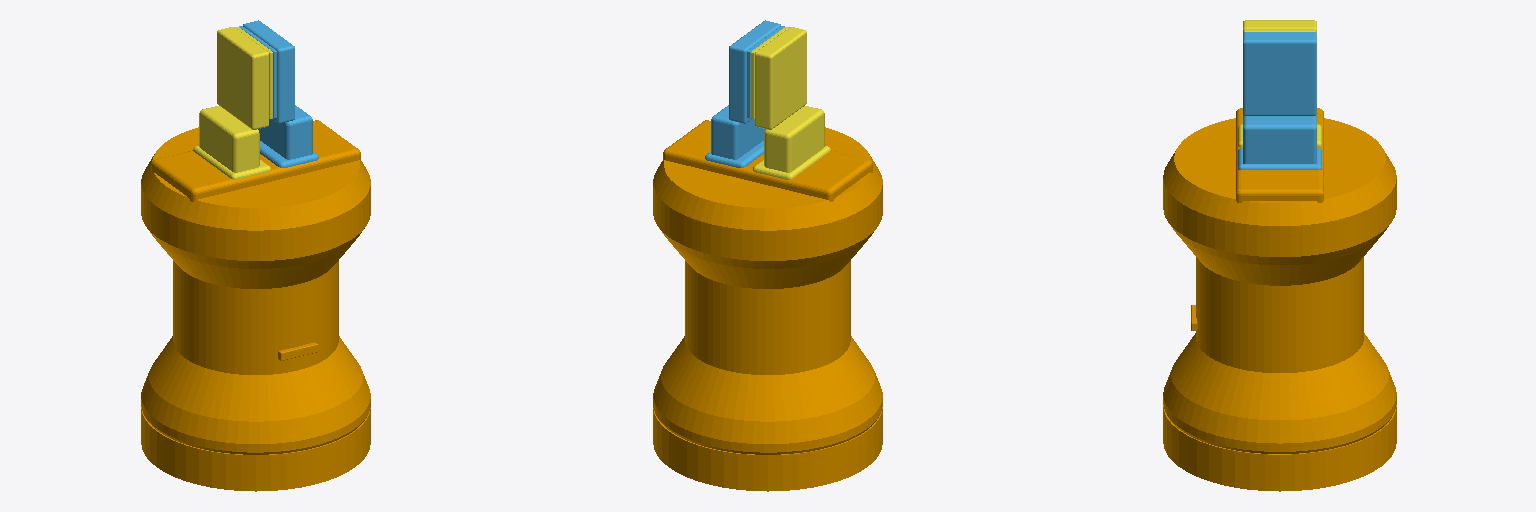
robot.urdf — robotiq_hand_e_hnd_grp:
<?xml version="1.0"?>
<robot name="robotiq_hand_e_hnd_grp">
<link name="mount"><visual ><geometry ><mesh filename="../meshes/mount.obj"/></geometry></visual><collision ><origin xyz="0 0 0.012" rpy="0 0 0"/><geometry ><cylinder radius="0.0375" length="0.024"/></geometry></collision><collision ><origin xyz="0 0 0.048" rpy="0 0 0"/><geometry ><cylinder radius="0.027" length="0.048"/></geometry></collision><collision ><origin xyz="0 0 0.08625" rpy="0 0 0"/><geometry ><cylinder radius="0.0375" length="0.0285"/></geometry></collision></link>
<link name="left_finger"><visual ><geometry ><mesh filename="../meshes/left_finger.obj"/></geometry></visual><collision ><origin xyz="0.009 0 0.1005" rpy="0 0 0"/><geometry ><box size="0.015 0.027 0.01"/></geometry></collision><collision ><origin xyz="0.01 0 0.111" rpy="0 0 0"/><geometry ><box size="0.01 0.024 0.016"/></geometry></collision><collision ><origin xyz="0.0041 0 0.1325" rpy="0 0 0"/><geometry ><box size="0.0082 0.024 0.027"/></geometry></collision></link>
<link name="left_contact"></link>
<link name="right_finger"><visual ><geometry ><mesh filename="../meshes/right_finger.obj"/></geometry></visual><collision ><origin xyz="-0.009 0 0.1005" rpy="0 0 0"/><geometry ><box size="0.015 0.027 0.01"/></geometry></collision><collision ><origin xyz="-0.01 0 0.111" rpy="0 0 0"/><geometry ><box size="0.01 0.024 0.016"/></geometry></collision><collision ><origin xyz="-0.0041 0 0.1325" rpy="0 0 0"/><geometry ><box size="0.0082 0.024 0.027"/></geometry></collision></link>
<link name="right_contact"></link>
<link name="tcp"></link>
<joint name="finger_joint" type="prismatic"><parent link="mount"/><child link="left_finger"/><origin xyz="0 0 0" rpy="0 0 0"/><axis xyz="1 0 0"/><limit lower="0" upper="0.025" velocity="0.05" effort="50"/></joint>
<joint name="left_contact_joint" type="fixed"><parent link="left_finger"/><child link="left_contact"/><origin xyz="0 0 0.1335" rpy="0 0 0"/></joint>
<joint name="finger_mirror_joint" type="prismatic"><parent link="mount"/><child link="right_finger"/><origin xyz="0 0 0" rpy="0 0 0"/><axis xyz="-1 0 0"/><limit lower="0" upper="0.025" velocity="0.05" effort="50"/><mimic joint="finger_joint" multiplier="1" offset="0"/></joint>
<joint name="right_contact_joint" type="fixed"><parent link="right_finger"/><child link="right_contact"/><origin xyz="0 0 0.1335" rpy="0 0 0"/></joint>
<joint name="tcp_joint" type="fixed"><parent link="mount"/><child link="tcp"/><origin xyz="0 0 0.146" rpy="0 0 0"/></joint>
</robot>

--- What the picture shows (computed from the rendered views, not written in the file) ---
The picture shows the robot from 3 angles, left to right: view 1: azimuth 30°, elevation 25°; view 2: azimuth 150°, elevation 25°; view 3: azimuth 270°, elevation 25°; orthographic projection.
Model robotiq_hand_e_hnd_grp with 6 links and 5 joints (2 prismatic, 3 fixed), rooted at mount, posed all joints at 0.
Visible links, largest first — view 1: mount, right_finger, left_finger; view 2: mount, right_finger, left_finger; view 3: mount, left_finger, right_finger.
Link boxes in pixels (x1,y1,x2,y2): mount: (141, 120, 370, 491); right_finger: (193, 27, 272, 179); left_finger: (239, 20, 318, 167); mount: (653, 120, 882, 491); right_finger: (751, 27, 830, 179); left_finger: (705, 20, 784, 167); mount: (1163, 108, 1396, 491); left_finger: (1238, 32, 1321, 169); right_finger: (1238, 20, 1321, 146).
Bounding box of the posed robot: 0.075 × 0.075 × 0.146 m (x, y, z).
3 mesh visuals loaded from 3 distinct referenced files (3 OBJ).
